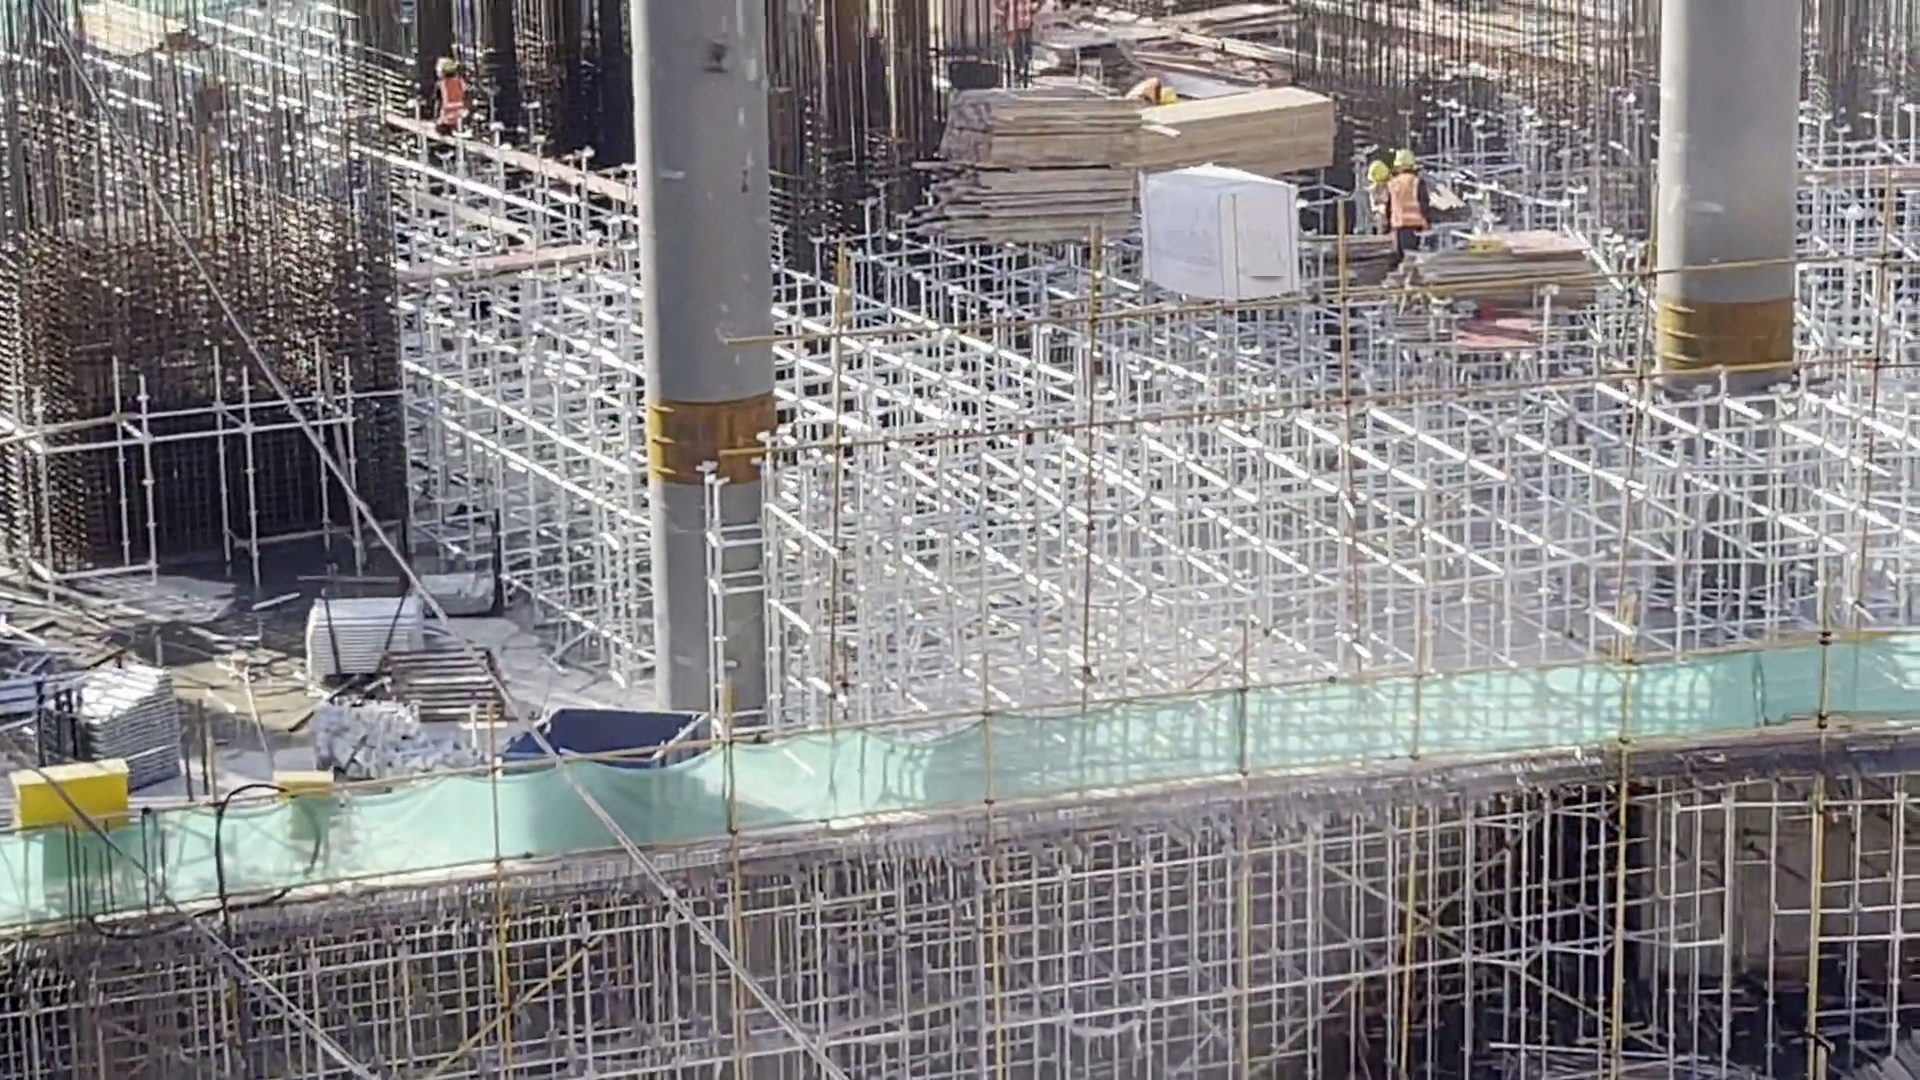board: (1419, 251, 1598, 321)
ebox: (34, 754, 126, 869), (268, 761, 353, 856)
helmet: (1365, 161, 1396, 185), (1398, 149, 1416, 174), (434, 62, 464, 75), (1161, 82, 1176, 102)
hopper: (519, 696, 733, 819)
person: (1391, 146, 1443, 256), (992, 1, 1028, 90), (1118, 66, 1183, 115), (436, 48, 464, 140), (1356, 160, 1396, 208)
scaffold: (58, 662, 189, 789), (318, 586, 444, 652)
vest: (1396, 179, 1425, 226), (440, 78, 464, 122), (1006, 1, 1028, 46), (1128, 75, 1159, 103), (1373, 181, 1391, 222)
wood: (949, 87, 1173, 226), (1164, 101, 1321, 174), (81, 1, 201, 92)
